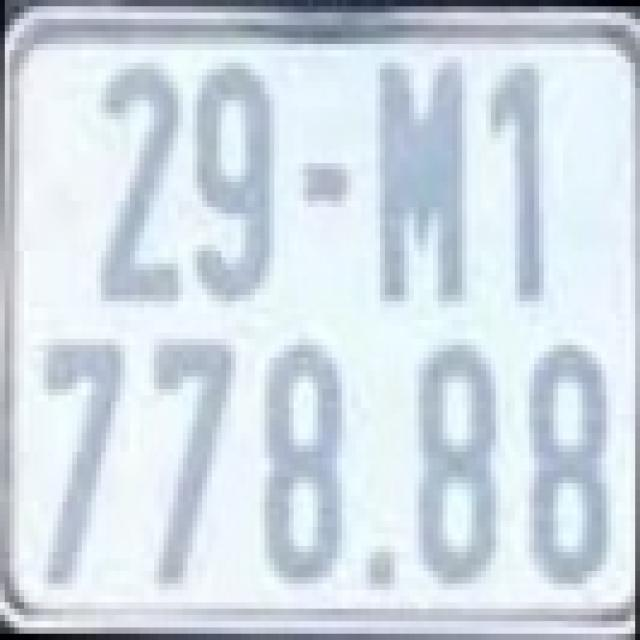1: (486, 60, 553, 304)
2: (94, 56, 185, 308)
7: (147, 332, 238, 584), (36, 332, 123, 584)
8: (260, 336, 346, 580), (529, 342, 611, 587), (416, 339, 498, 583)
9: (190, 57, 277, 301)
M: (373, 56, 469, 308)
